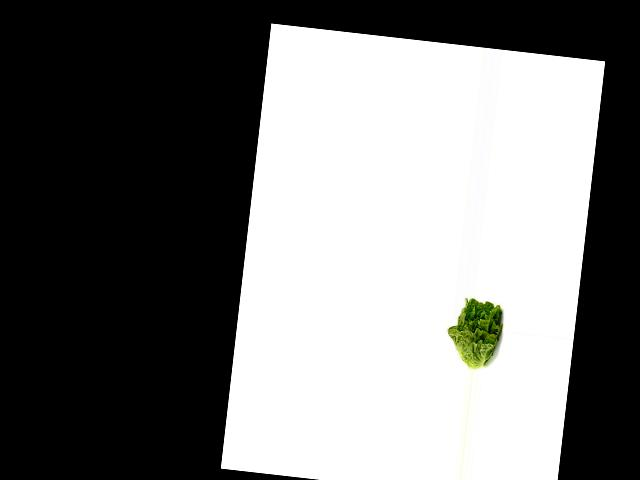lettuce: (444, 296, 509, 371)
